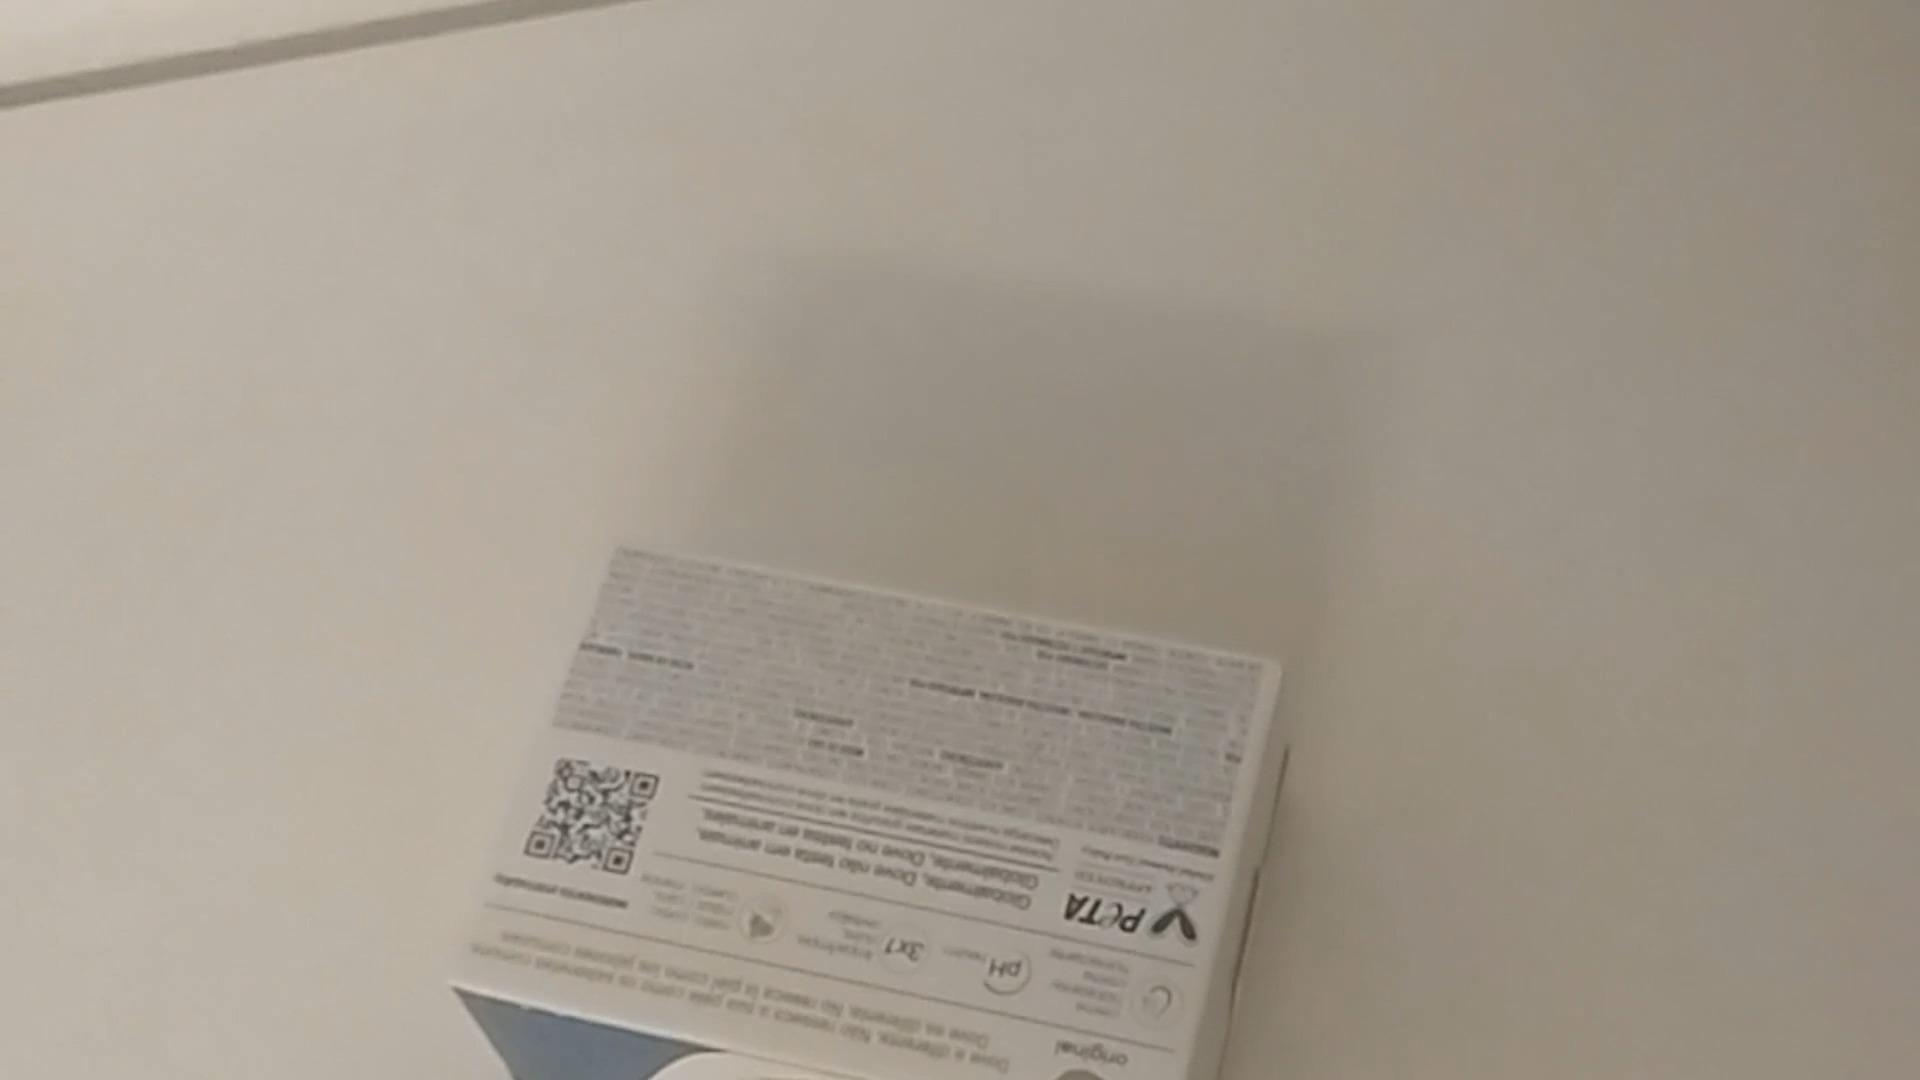soap: (448, 534, 1283, 1072)
